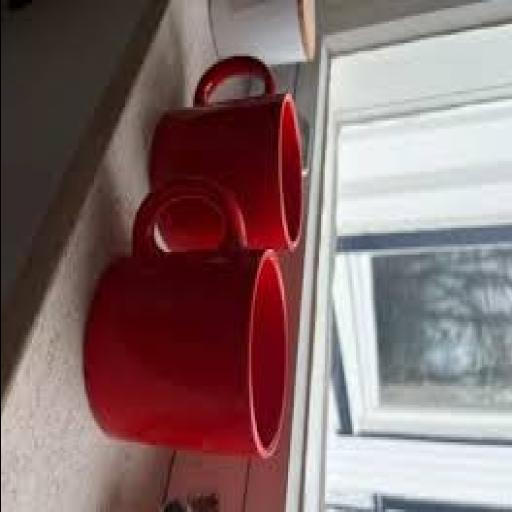red mug: (85, 180, 287, 456), (151, 59, 303, 249), (159, 198, 221, 247)
